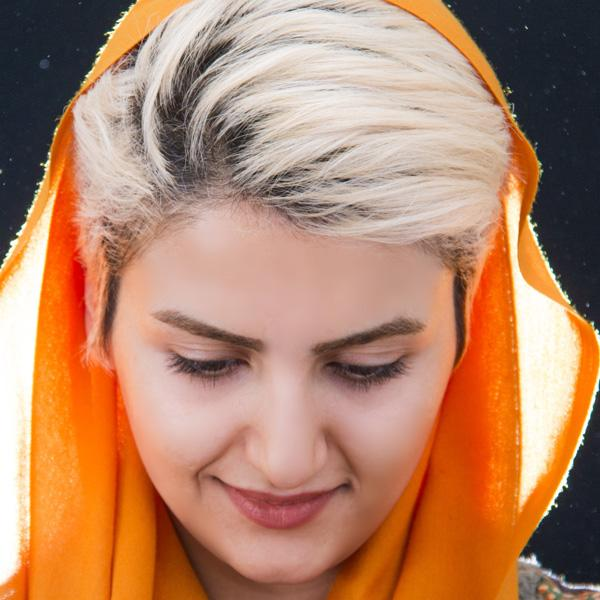Eyes: (156, 329, 254, 392), (319, 345, 416, 397)
